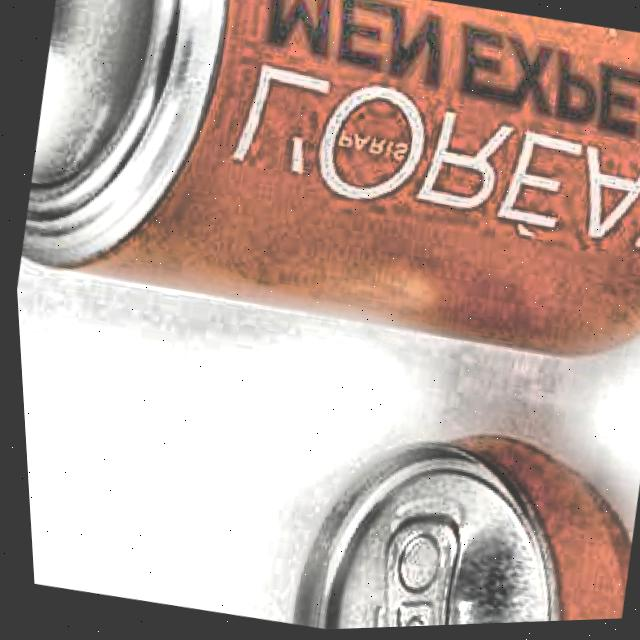metal: (0, 0, 640, 438), (250, 381, 640, 633)
